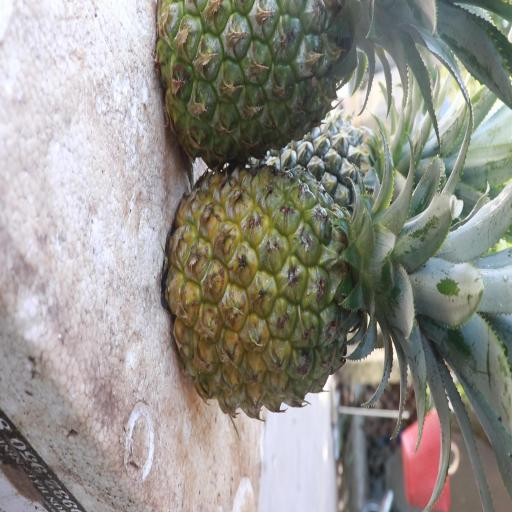------------------------------: (157, 1, 386, 157)
Pineapple - v8 v1: (174, 166, 410, 420)
